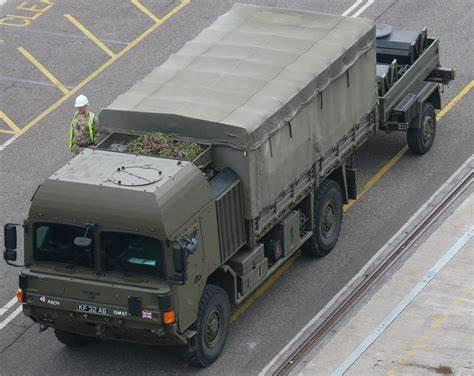truck: (15, 3, 472, 362)
